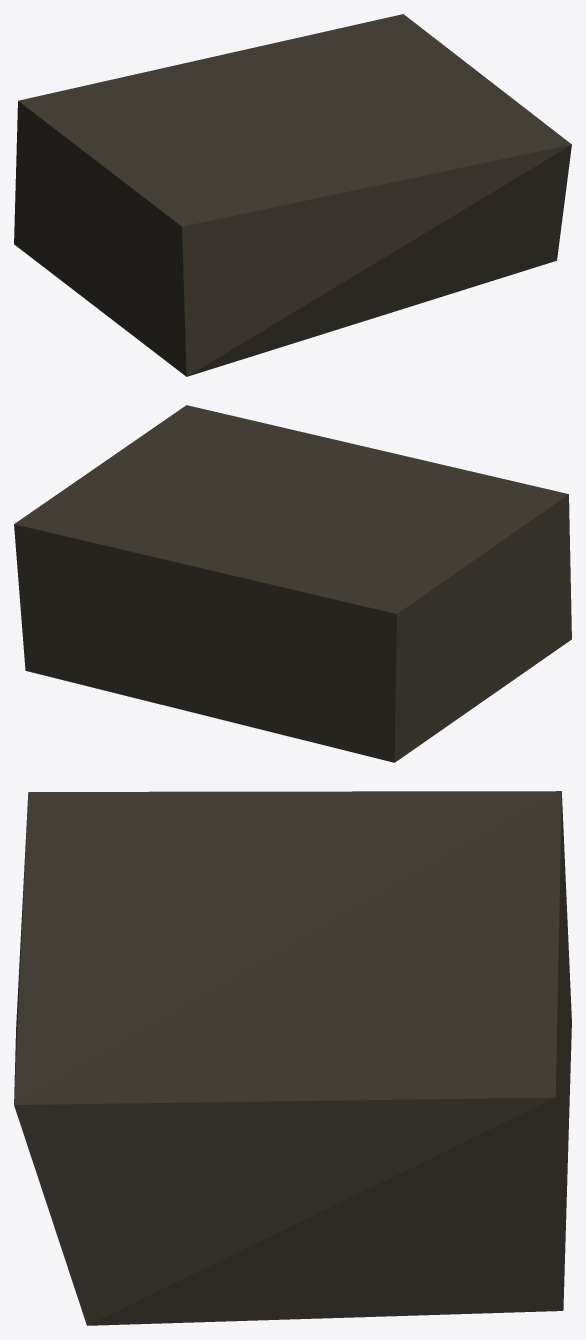
The model's file is Brick_Single_10.fbx.
3 views of the same model, one above another, from view 1: azimuth 30°, elevation 25°; view 2: azimuth 150°, elevation 25°; view 3: azimuth 270°, elevation 25° (orthographic). The views are drawn at different scales.
Parts seen in each view (by area): view 1: Group31809; view 2: Group31809; view 3: Group31809.
Boxes of the visible parts, bbox=[...] form: Group31809: bbox=[14, 14, 571, 376]; Group31809: bbox=[14, 405, 571, 762]; Group31809: bbox=[14, 791, 571, 1325].
Bounding box in the file's own units: 1.15 × 0.4192 × 0.8882.
